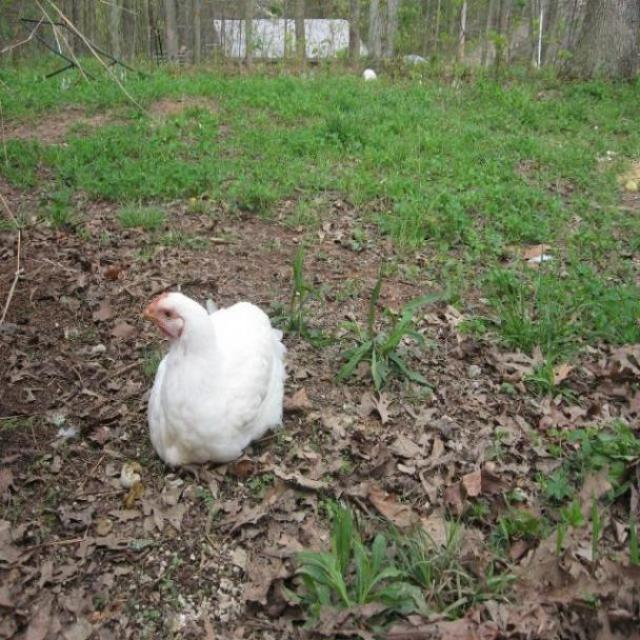Chicken: (144, 288, 285, 495)
